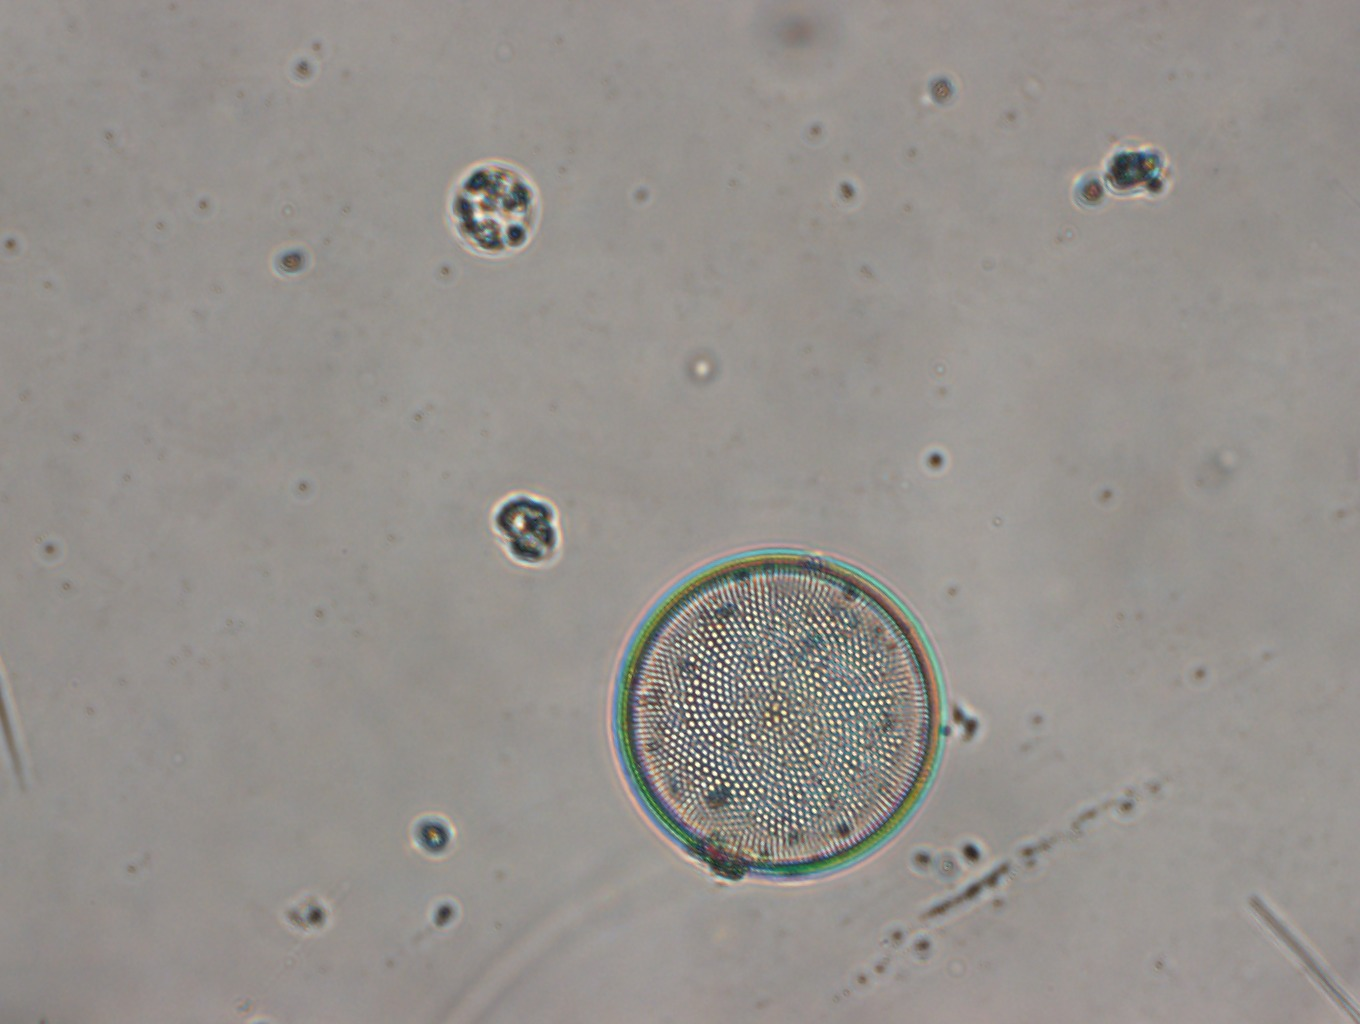coscinodiscus: (613, 547, 946, 882)
